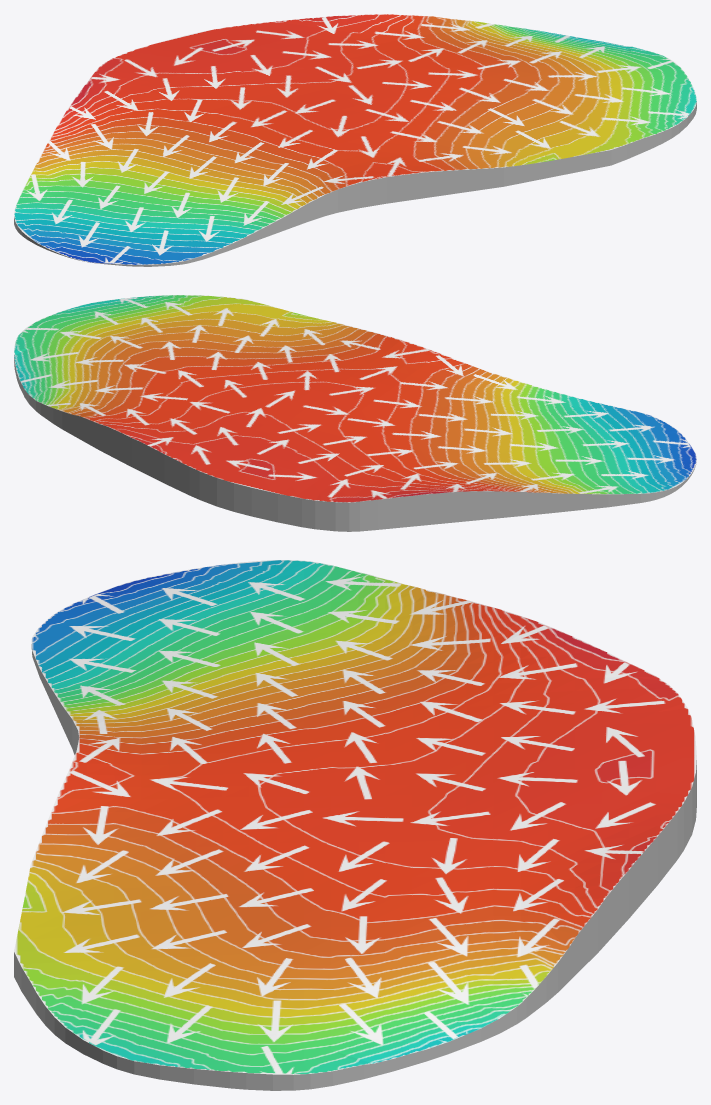
3 views of the same model, one above another, from view 1: azimuth 30°, elevation 25°; view 2: azimuth 150°, elevation 25°; view 3: azimuth 270°, elevation 25° (orthographic). The views are drawn at different scales.
Size of the model in its own units: 7.09 by 0.3256 by 3.92.
2 materials, 1 textured.
